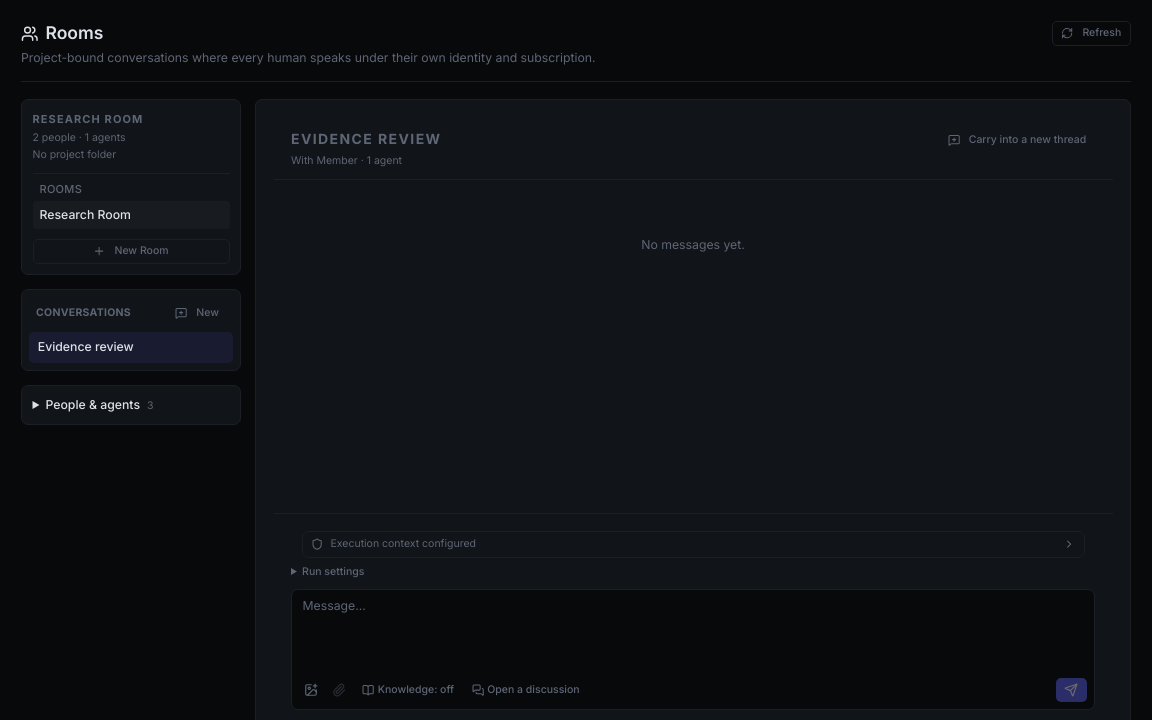
it: Rooms page › starts a separate thread by deselecting, and does not snap back to the newest
Click the button with aria-label "New conversation" at (197, 313), box [168, 300, 226, 325]
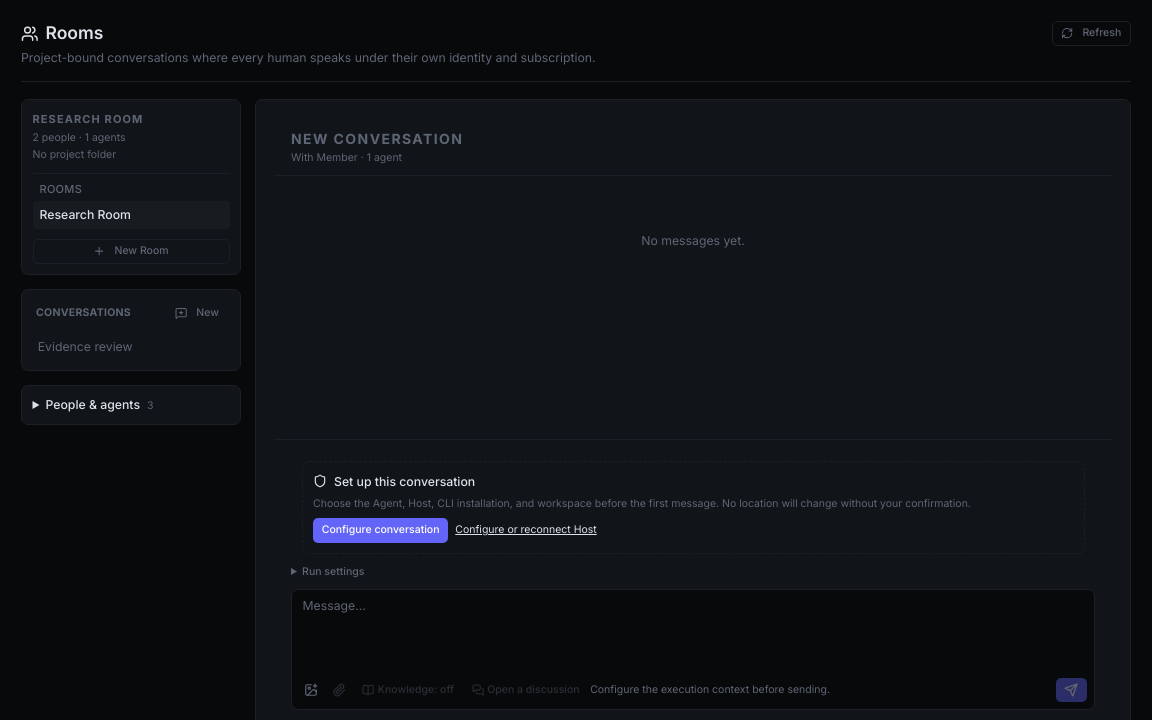
Check: the field named "Room message" is shown, box [292, 590, 1094, 674]
Check: the heading "New conversation" is shown, box [291, 128, 463, 149]
